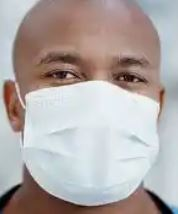with_facemask: (25, 83, 159, 203)
